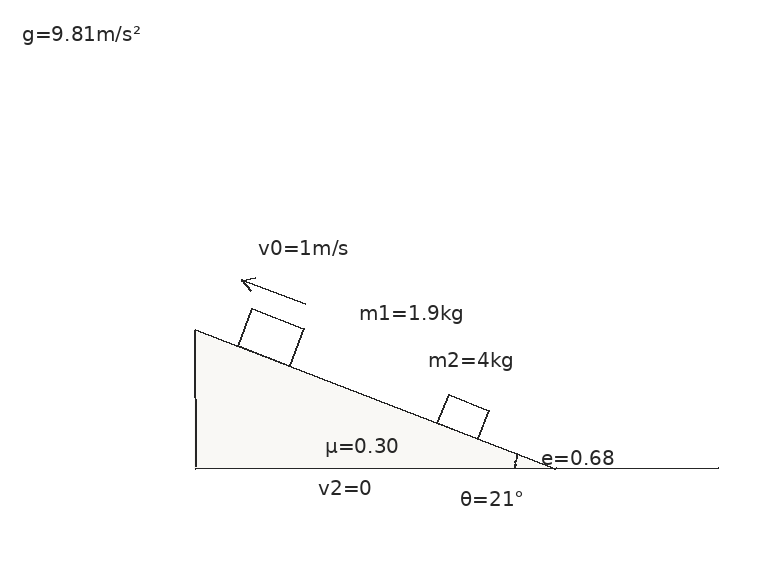block: (235, 306, 306, 368), (436, 392, 490, 440)
ramp: (193, 328, 557, 470)
